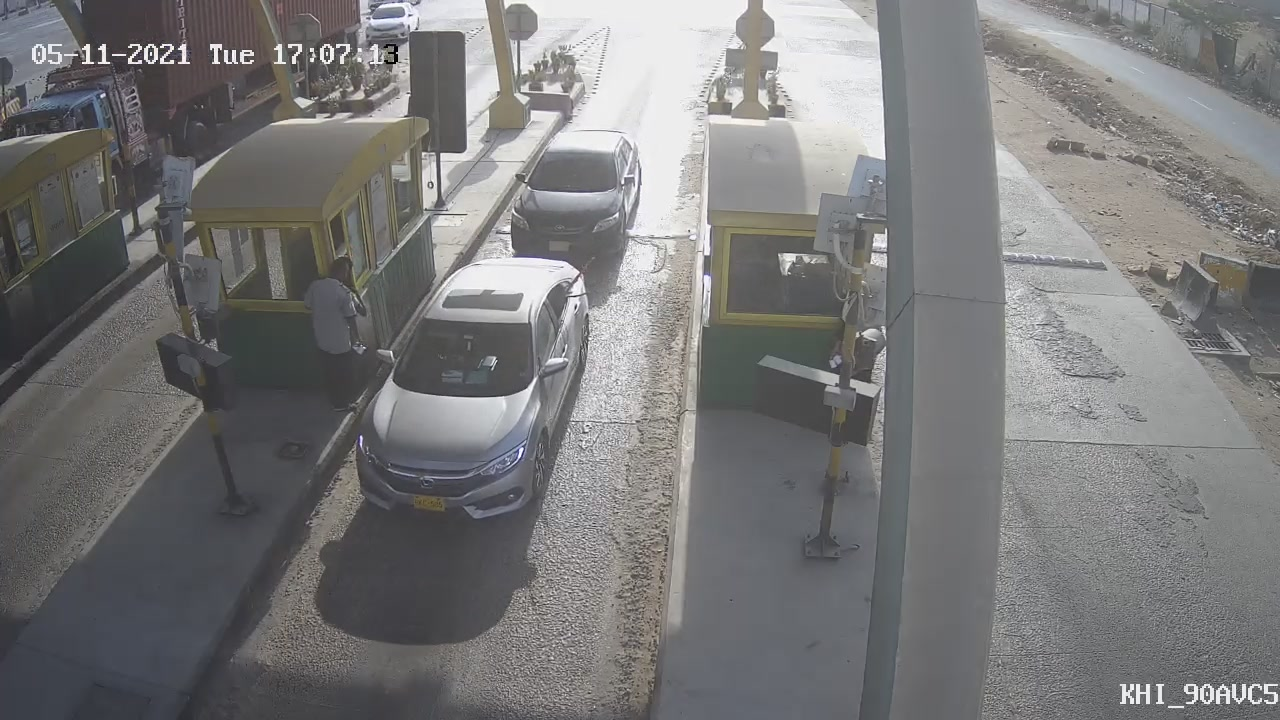F1: (338, 238, 609, 542), (492, 112, 664, 277)
